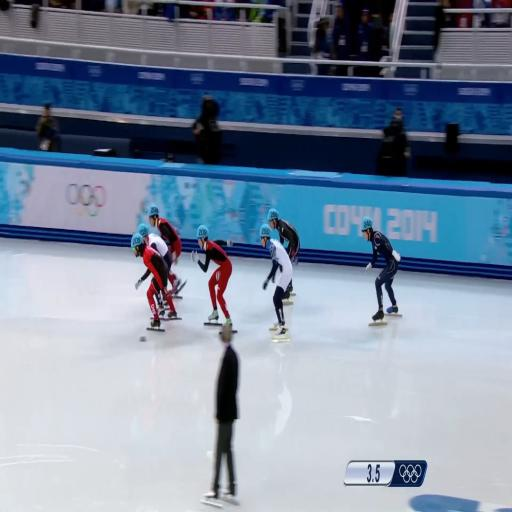Skater: (131, 233, 178, 329), (192, 225, 232, 325), (362, 217, 400, 322), (260, 224, 292, 338), (138, 224, 172, 280), (149, 205, 181, 263), (268, 209, 299, 264)
